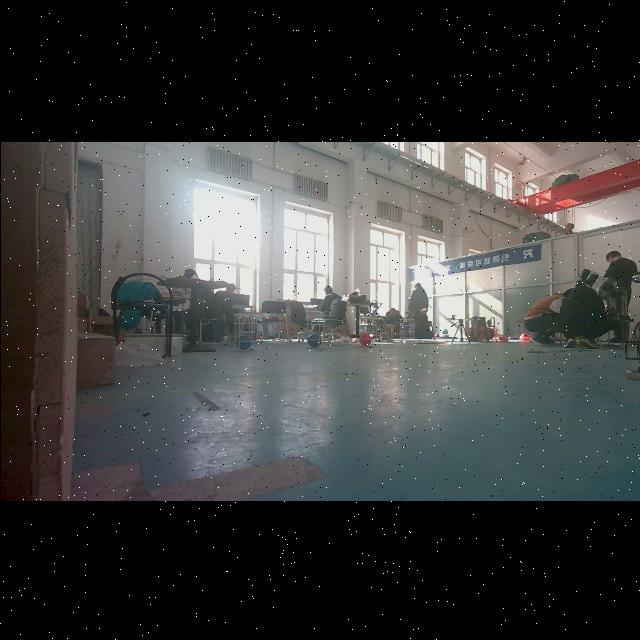B: (234, 332, 252, 348), (306, 332, 322, 346)
R: (358, 333, 372, 345)
S: (228, 309, 258, 351), (302, 315, 330, 351), (356, 316, 376, 348), (396, 315, 416, 345)
